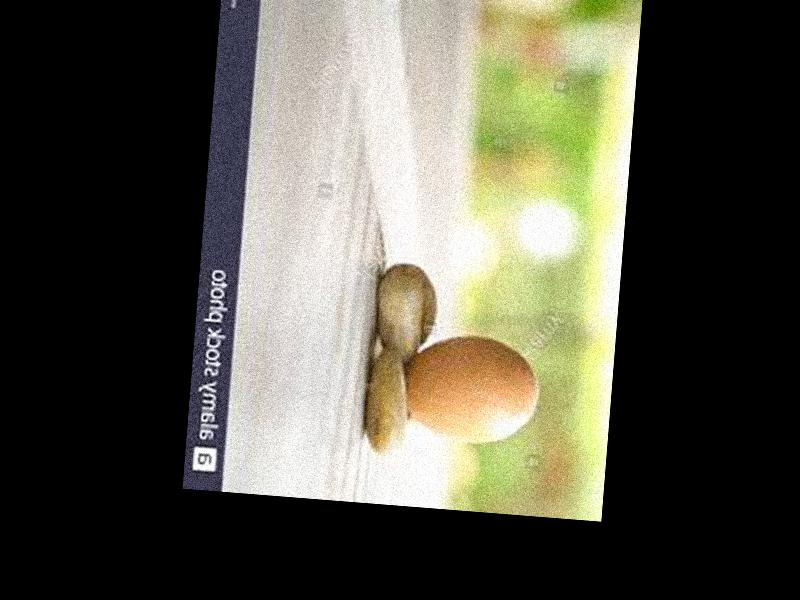Eggs: (401, 330, 540, 449)
